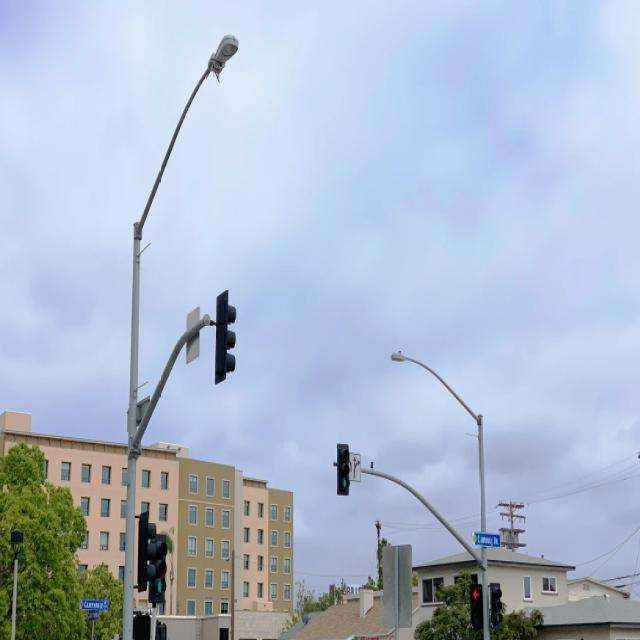Electric pole: (122, 35, 239, 640), (394, 351, 486, 533), (479, 546, 490, 640)
